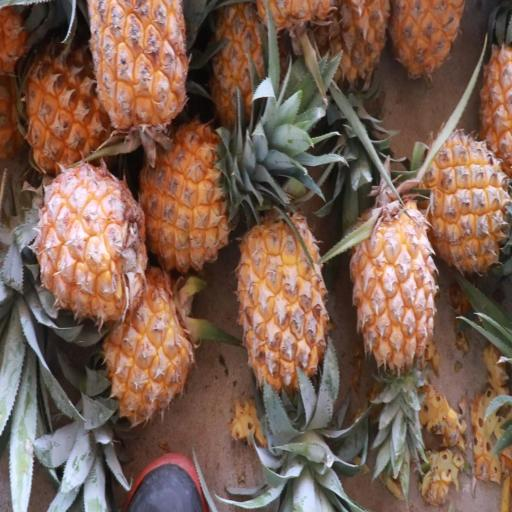Pineapple - v8 v1: (236, 202, 334, 404), (38, 158, 152, 324), (94, 258, 198, 428), (347, 185, 441, 371), (409, 123, 512, 280), (139, 109, 233, 274), (86, 4, 196, 140), (21, 31, 130, 166)
